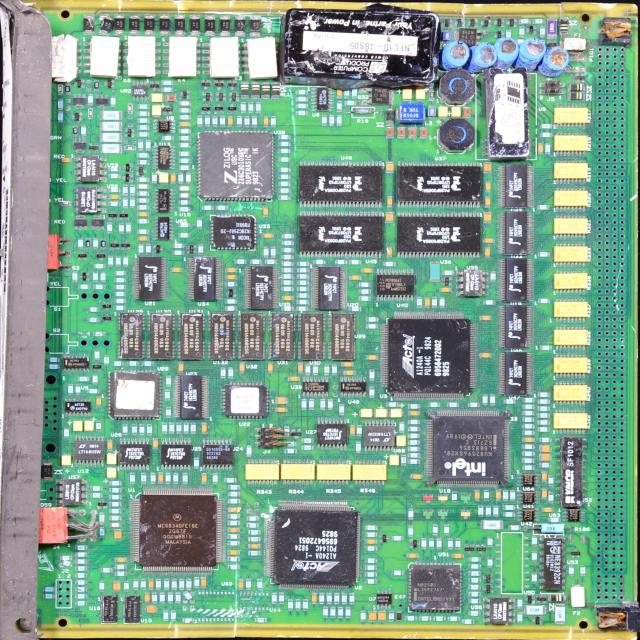Capacitor Jumper: (408, 128, 416, 137), (398, 128, 405, 138), (386, 162, 393, 172), (369, 611, 375, 621), (485, 182, 491, 192), (484, 212, 490, 222), (407, 410, 418, 415), (524, 437, 533, 443), (420, 128, 425, 138), (463, 109, 470, 116), (278, 398, 286, 404), (541, 454, 549, 460), (495, 492, 501, 500), (148, 606, 156, 612), (378, 612, 384, 620), (484, 164, 490, 172), (387, 214, 393, 222), (96, 397, 101, 406), (157, 473, 162, 482), (107, 441, 113, 448), (168, 96, 175, 102), (342, 363, 352, 367), (290, 376, 298, 381), (201, 424, 206, 432), (203, 474, 207, 484), (474, 491, 479, 499), (367, 539, 375, 544), (248, 544, 258, 548), (408, 554, 418, 558), (238, 580, 243, 588), (538, 143, 542, 153), (138, 212, 146, 217), (172, 268, 182, 272), (423, 298, 428, 306), (481, 316, 490, 320), (413, 474, 422, 478), (545, 508, 554, 512), (388, 128, 392, 137), (264, 208, 268, 217), (114, 582, 119, 589), (486, 199, 491, 206), (366, 356, 377, 359), (482, 354, 490, 358), (179, 362, 183, 370), (240, 363, 244, 371), (269, 364, 273, 372), (154, 439, 158, 447), (231, 507, 239, 511), (116, 558, 124, 562), (337, 90, 341, 98), (263, 118, 267, 126), (62, 158, 70, 162), (171, 174, 175, 182), (388, 197, 392, 205), (264, 233, 272, 237), (347, 370, 354, 374), (541, 447, 548, 451), (202, 579, 206, 586), (180, 122, 187, 126), (388, 248, 392, 255), (298, 364, 301, 373), (228, 116, 231, 125), (486, 249, 489, 258), (351, 276, 360, 279), (351, 427, 354, 435), (542, 475, 546, 481), (543, 491, 546, 499), (231, 528, 237, 532), (116, 532, 120, 538), (453, 554, 461, 557), (145, 594, 148, 602), (364, 268, 370, 272), (284, 296, 290, 300), (314, 593, 316, 604), (278, 408, 285, 411), (230, 551, 237, 554), (112, 195, 117, 199), (140, 237, 146, 240), (150, 580, 152, 588), (485, 240, 493, 242), (442, 289, 449, 291), (228, 276, 234, 278), (230, 269, 234, 271)
IC: (387, 320, 470, 395), (138, 492, 214, 567), (277, 510, 353, 585), (432, 415, 504, 482), (199, 133, 271, 199), (484, 71, 529, 159), (300, 210, 382, 252), (397, 165, 479, 202), (398, 216, 481, 252), (299, 166, 380, 202), (411, 565, 458, 609), (111, 376, 158, 416), (211, 216, 256, 251), (562, 438, 581, 506), (328, 313, 354, 359), (247, 267, 274, 308), (270, 314, 292, 358), (506, 210, 527, 256), (317, 268, 340, 309), (503, 354, 527, 393), (226, 388, 262, 414), (240, 313, 260, 359), (121, 312, 141, 356), (299, 315, 320, 356), (140, 257, 160, 300), (505, 307, 526, 347), (505, 166, 526, 206), (194, 258, 215, 298), (506, 260, 527, 300), (212, 314, 230, 359), (153, 314, 171, 358), (183, 315, 201, 359), (182, 376, 200, 418), (546, 538, 561, 586), (378, 276, 412, 294), (318, 422, 346, 443), (74, 440, 102, 460), (364, 426, 393, 445), (119, 444, 146, 464), (61, 479, 83, 503), (162, 445, 189, 464), (202, 446, 230, 464), (490, 598, 508, 623), (464, 272, 483, 295), (82, 157, 99, 181), (80, 189, 97, 211), (102, 597, 115, 623), (125, 598, 139, 622), (158, 189, 170, 212), (158, 218, 170, 239), (303, 382, 327, 392), (319, 88, 329, 109), (159, 146, 168, 168), (342, 384, 364, 392), (157, 120, 170, 132), (568, 510, 580, 522), (524, 473, 534, 485), (523, 491, 532, 503), (378, 595, 390, 604), (135, 87, 145, 94)
Resistor Jumper: (244, 463, 282, 480), (317, 463, 350, 479), (283, 464, 316, 480), (554, 190, 587, 206), (554, 136, 588, 151), (553, 247, 587, 262), (554, 301, 586, 316), (555, 218, 586, 233), (354, 466, 386, 480), (555, 359, 586, 373), (554, 415, 587, 428), (556, 164, 588, 177), (554, 331, 587, 343), (554, 110, 587, 122), (554, 276, 586, 288), (555, 386, 584, 399), (430, 263, 440, 279), (353, 108, 370, 115), (524, 510, 532, 521), (162, 78, 172, 86), (408, 403, 420, 408), (163, 134, 173, 140), (137, 244, 143, 254), (163, 391, 170, 399), (402, 455, 407, 466), (151, 173, 157, 182), (438, 298, 444, 307), (431, 298, 437, 307), (190, 422, 195, 432), (336, 101, 341, 111), (251, 259, 261, 264), (490, 271, 495, 281), (249, 522, 257, 528), (229, 556, 237, 562), (171, 610, 175, 622), (328, 116, 334, 124), (429, 402, 438, 407), (541, 463, 550, 468), (44, 587, 53, 592), (110, 96, 115, 105), (204, 116, 209, 125), (180, 200, 189, 205), (226, 281, 235, 286), (370, 369, 374, 380), (162, 422, 166, 433), (338, 606, 342, 617), (129, 360, 136, 366), (165, 475, 171, 482), (184, 593, 191, 599), (445, 270, 452, 276), (540, 28, 545, 36), (541, 346, 549, 351), (305, 366, 310, 374), (228, 369, 233, 377), (221, 368, 225, 378), (166, 376, 170, 386), (371, 388, 375, 398), (484, 394, 488, 404), (540, 421, 548, 426), (246, 446, 250, 456), (194, 459, 199, 467), (150, 474, 155, 482), (131, 474, 136, 482), (182, 474, 187, 482), (408, 528, 413, 536), (393, 536, 401, 541), (437, 539, 442, 547), (470, 556, 478, 561), (580, 566, 585, 574), (133, 580, 138, 588), (155, 580, 160, 588), (179, 582, 184, 590), (342, 594, 346, 604), (518, 599, 522, 609), (323, 608, 328, 616), (164, 610, 168, 620), (518, 613, 522, 623), (58, 99, 62, 109), (250, 117, 255, 125), (542, 132, 552, 136), (177, 173, 181, 183), (124, 198, 128, 208), (201, 206, 211, 210), (137, 219, 147, 223), (180, 222, 188, 227), (92, 239, 97, 247), (146, 243, 150, 253), (264, 260, 274, 264), (335, 260, 345, 264), (284, 262, 292, 267), (296, 307, 306, 311), (76, 386, 80, 395), (538, 393, 547, 397), (524, 466, 533, 470), (409, 509, 413, 518), (250, 531, 259, 535), (279, 594, 283, 603), (320, 594, 324, 603), (334, 594, 338, 603), (289, 601, 293, 610), (330, 607, 334, 616), (345, 608, 349, 617), (88, 95, 92, 104), (240, 105, 246, 111), (338, 116, 342, 125), (197, 116, 201, 125), (213, 116, 217, 125), (369, 316, 376, 321), (90, 318, 97, 323), (94, 486, 101, 491), (452, 493, 457, 500), (443, 526, 448, 533), (348, 100, 355, 105), (248, 104, 253, 111), (180, 185, 187, 190), (486, 300, 493, 305), (383, 263, 394, 266), (367, 324, 375, 328), (95, 332, 103, 336), (142, 362, 150, 366), (314, 365, 318, 373), (331, 366, 335, 374), (68, 386, 72, 394), (490, 396, 494, 404), (469, 403, 477, 407), (166, 407, 170, 415), (96, 421, 100, 429), (410, 434, 418, 438), (540, 438, 548, 442), (142, 474, 146, 482), (174, 474, 178, 482), (548, 477, 552, 485), (112, 482, 120, 486), (510, 492, 514, 500), (506, 505, 514, 509), (494, 507, 498, 515), (250, 538, 258, 542), (448, 540, 452, 548), (368, 559, 376, 563), (228, 566, 236, 570), (141, 579, 145, 587), (258, 580, 262, 588), (194, 580, 198, 588), (164, 580, 168, 588), (172, 581, 176, 589), (470, 586, 478, 590), (45, 594, 53, 598), (153, 594, 157, 602), (272, 594, 276, 602), (302, 600, 306, 608), (471, 612, 479, 616), (256, 617, 264, 621), (352, 90, 356, 98), (140, 105, 148, 109), (546, 145, 550, 153), (110, 166, 118, 170), (185, 174, 189, 182), (538, 204, 546, 208), (197, 220, 201, 228), (120, 224, 124, 232), (126, 224, 130, 232), (284, 248, 292, 252), (284, 256, 292, 260), (115, 257, 119, 265), (100, 274, 104, 282), (117, 285, 125, 289), (361, 296, 369, 300), (117, 299, 125, 303), (226, 300, 234, 304), (520, 27, 524, 35), (450, 402, 456, 407), (177, 422, 180, 432), (170, 423, 173, 433), (357, 442, 360, 452), (410, 448, 420, 451), (287, 449, 293, 454), (526, 452, 532, 457), (77, 568, 87, 571), (246, 580, 249, 590), (180, 103, 190, 106), (113, 201, 119, 206), (216, 206, 226, 209), (539, 253, 549, 256), (94, 272, 97, 282), (539, 300, 549, 303), (113, 362, 120, 366), (80, 377, 87, 381), (301, 401, 305, 408), (309, 401, 313, 408), (320, 401, 324, 408), (525, 405, 532, 409), (411, 420, 418, 424), (525, 425, 532, 429), (540, 428, 547, 432), (64, 429, 68, 436), (525, 431, 532, 435), (304, 438, 311, 442), (504, 492, 508, 499), (422, 540, 426, 547), (78, 546, 85, 550), (79, 554, 86, 558), (394, 570, 401, 574), (124, 583, 128, 590), (78, 594, 85, 598), (436, 617, 443, 621), (185, 619, 192, 623), (255, 103, 259, 110), (281, 135, 288, 139), (146, 142, 150, 149), (281, 158, 288, 162), (138, 230, 145, 234), (78, 240, 82, 247), (175, 251, 182, 255), (299, 262, 306, 266), (285, 282, 292, 286), (95, 285, 102, 289), (300, 300, 307, 304), (227, 306, 234, 310), (325, 365, 328, 374), (539, 400, 548, 403), (400, 423, 403, 432), (141, 425, 144, 434), (550, 518, 559, 521), (170, 594, 173, 603), (408, 617, 417, 620), (323, 116, 326, 125), (272, 117, 275, 126), (283, 235, 292, 238), (199, 245, 202, 254), (109, 256, 112, 265), (359, 290, 368, 293), (176, 244, 181, 249), (96, 352, 100, 358), (105, 356, 108, 364), (506, 400, 514, 403), (387, 403, 395, 406), (540, 414, 546, 418), (185, 423, 188, 431), (410, 427, 418, 430), (131, 426, 135, 432), (123, 426, 126, 434), (410, 454, 418, 457), (479, 507, 482, 515), (248, 516, 256, 519), (113, 517, 119, 521), (367, 526, 375, 529), (512, 526, 518, 530), (434, 526, 437, 534), (489, 537, 492, 545), (251, 551, 257, 555), (533, 552, 536, 560), (80, 560, 86, 564), (570, 568, 574, 574), (79, 574, 85, 578), (533, 575, 537, 581), (471, 593, 479, 596), (160, 594, 163, 602), (327, 594, 330, 602), (177, 595, 180, 603), (450, 617, 458, 620), (163, 88, 171, 91), (299, 104, 305, 108), (140, 112, 148, 115), (141, 118, 147, 122), (541, 125, 549, 128), (82, 127, 85, 135), (181, 152, 189, 155), (182, 160, 188, 164), (182, 166, 188, 170), (282, 168, 288, 172), (124, 187, 128, 193), (131, 186, 134, 194), (140, 199, 146, 203), (182, 207, 188, 211), (271, 248, 274, 256), (265, 249, 268, 257), (351, 260, 359, 263), (95, 264, 103, 267), (301, 269, 307, 273), (361, 283, 369, 286), (118, 292, 124, 296), (116, 306, 122, 310), (525, 399, 532, 402), (340, 406, 343, 413), (525, 418, 532, 421), (525, 446, 532, 449), (411, 461, 418, 464), (231, 487, 238, 490), (230, 493, 237, 496), (95, 494, 102, 497), (230, 515, 237, 518), (100, 514, 103, 521), (230, 521, 237, 524), (368, 533, 375, 536), (533, 538, 536, 545), (456, 541, 459, 548), (488, 559, 491, 566), (101, 582, 104, 589), (78, 588, 85, 591), (361, 612, 364, 619), (390, 613, 393, 620), (298, 92, 305, 95), (182, 130, 189, 133), (181, 145, 188, 148), (110, 174, 117, 177), (140, 178, 147, 181), (181, 194, 188, 197), (521, 20, 528, 23), (108, 224, 111, 231), (236, 260, 243, 263), (317, 261, 324, 264), (73, 273, 76, 280), (417, 298, 420, 305), (289, 442, 294, 446), (113, 489, 118, 493), (485, 492, 489, 497), (113, 509, 118, 513), (368, 566, 373, 570), (104, 568, 109, 572), (283, 142, 288, 146), (112, 188, 117, 192), (284, 306, 289, 310), (89, 390, 95, 393), (524, 412, 530, 415), (150, 425, 152, 434), (357, 428, 360, 434), (525, 459, 531, 462), (214, 475, 217, 481), (227, 479, 233, 482), (112, 496, 118, 499), (550, 493, 552, 502), (112, 503, 118, 506), (486, 508, 489, 514), (430, 540, 433, 546), (472, 565, 478, 568), (368, 573, 374, 576), (472, 578, 478, 581), (368, 581, 374, 584), (187, 582, 190, 588), (350, 596, 353, 602), (422, 617, 428, 620), (345, 91, 348, 97), (245, 117, 247, 126), (221, 117, 223, 126), (140, 141, 142, 150), (280, 149, 286, 152), (282, 176, 288, 179), (140, 191, 146, 194), (181, 234, 187, 237), (285, 275, 291, 278), (352, 307, 358, 310), (329, 400, 331, 408), (286, 428, 288, 436), (410, 442, 418, 444), (62, 557, 70, 559), (66, 562, 70, 566), (119, 565, 123, 569), (297, 600, 299, 608), (464, 620, 472, 622), (184, 110, 188, 114), (300, 111, 304, 115), (238, 118, 240, 126), (142, 126, 146, 130), (140, 154, 148, 156), (132, 198, 134, 206), (535, 20, 543, 22), (115, 272, 123, 274), (301, 281, 305, 285), (302, 287, 306, 291), (473, 572, 478, 575), (118, 572, 123, 575), (140, 185, 145, 188), (283, 196, 288, 199), (301, 275, 306, 278), (286, 288, 291, 291), (230, 542, 237, 544), (141, 162, 148, 164), (141, 206, 148, 208), (542, 407, 546, 410), (231, 500, 237, 502), (506, 514, 512, 516), (112, 524, 118, 526), (232, 535, 236, 538), (77, 582, 83, 584), (472, 600, 478, 602), (80, 601, 84, 604), (60, 110, 61, 122), (182, 117, 186, 120), (140, 134, 146, 136), (183, 137, 187, 140), (284, 183, 288, 186), (284, 270, 290, 272), (82, 286, 88, 288), (91, 309, 95, 312), (508, 32, 510, 37), (369, 548, 374, 550), (300, 98, 305, 100), (285, 242, 290, 244), (301, 295, 306, 297), (94, 373, 95, 382), (306, 446, 310, 448), (282, 190, 286, 192), (118, 279, 122, 281), (125, 257, 126, 264)
